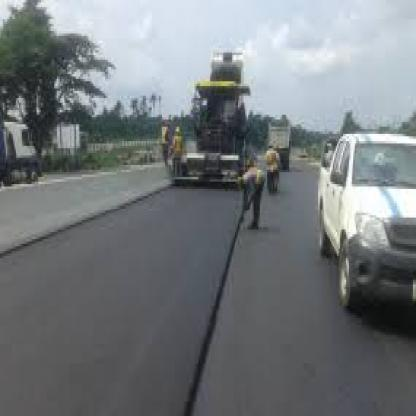car: (305, 125, 416, 310)
